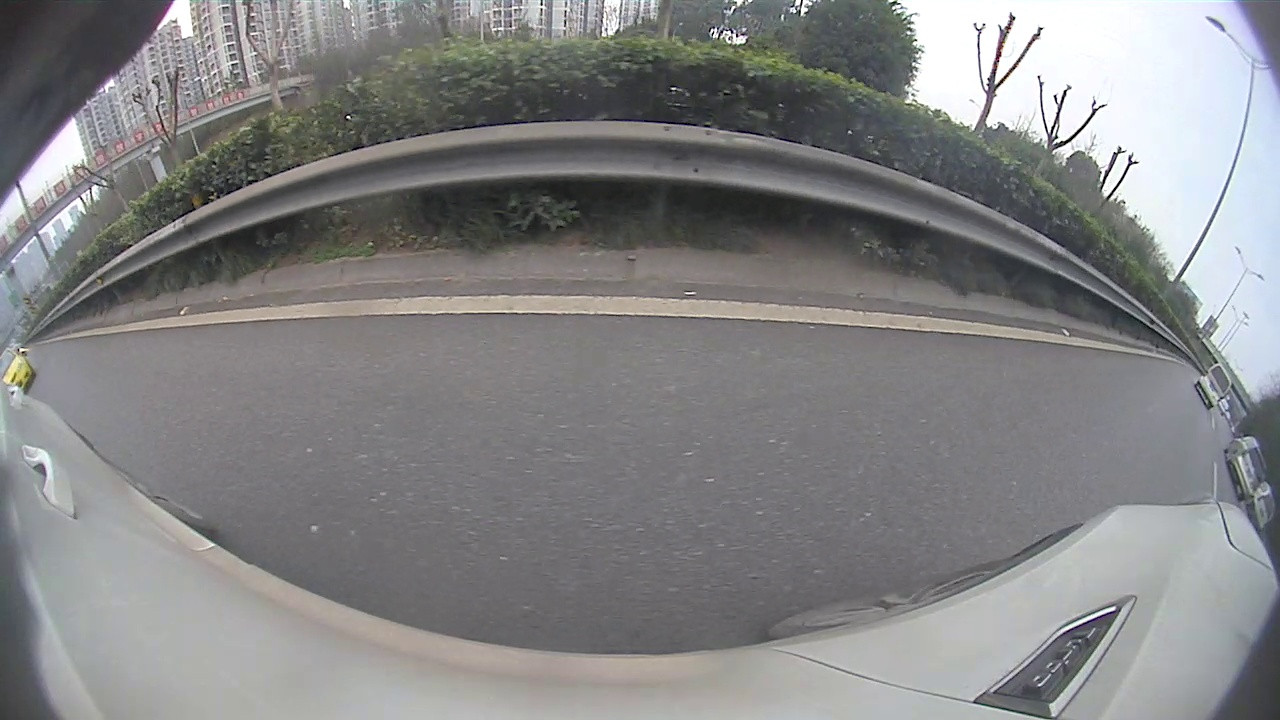car: (1225, 437, 1267, 501), (1194, 363, 1232, 408), (1, 348, 38, 392)
